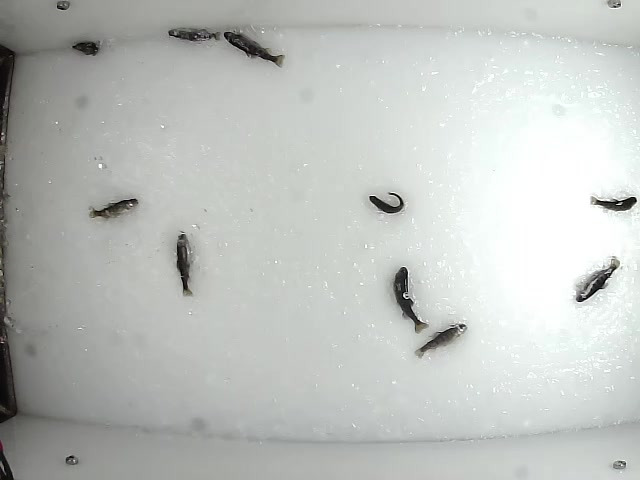fish: (221, 30, 287, 69), (392, 266, 429, 334), (572, 254, 620, 304), (413, 319, 469, 360), (172, 229, 194, 299), (87, 197, 140, 221), (365, 189, 405, 215), (166, 26, 227, 43), (589, 194, 639, 213), (69, 40, 112, 56)
